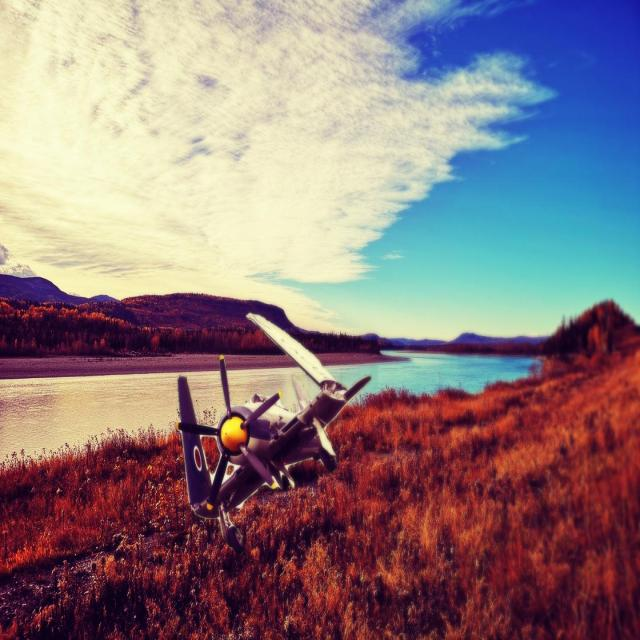airplane: (175, 311, 371, 554)
